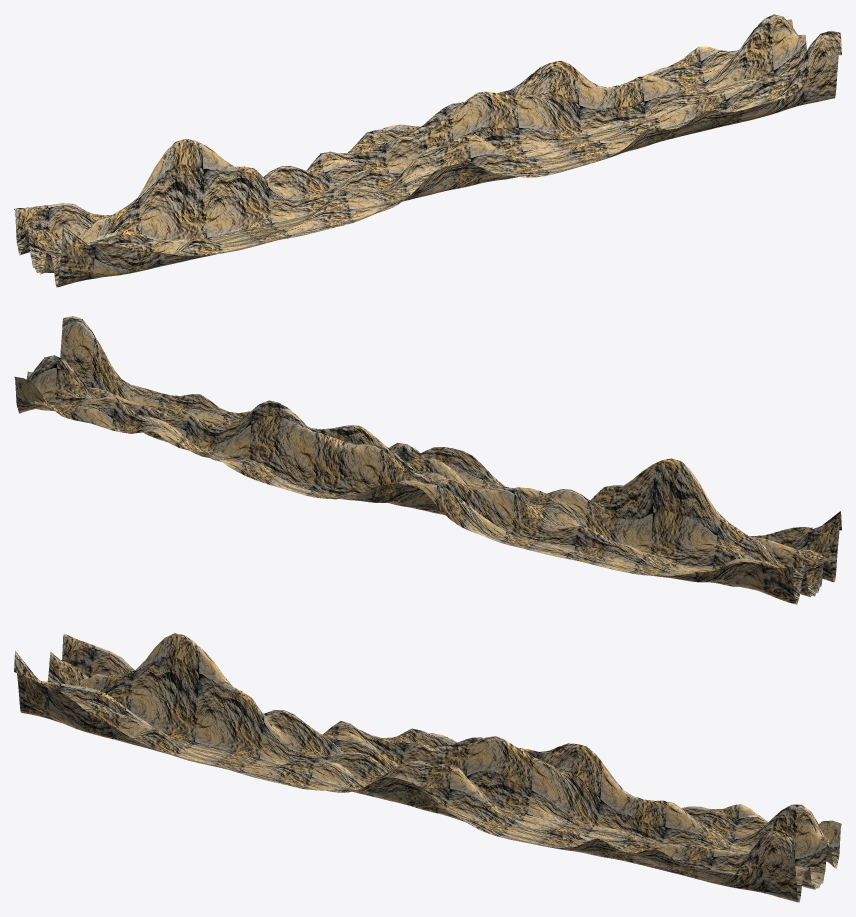
File: mountain.fbx
The picture shows the model from 3 angles, top to bottom: view 1: azimuth 30°, elevation 25°; view 2: azimuth 150°, elevation 25°; view 3: azimuth 330°, elevation 25°; orthographic projection.
Visible parts, largest first — view 1: Plane001; view 2: Plane001; view 3: Plane001.
Boxes of the visible parts, bbox=[...] form: Plane001: bbox=[14, 14, 841, 287]; Plane001: bbox=[14, 316, 841, 604]; Plane001: bbox=[14, 633, 841, 902].
Bounding box in the file's own units: 1385 × 173 × 156.
